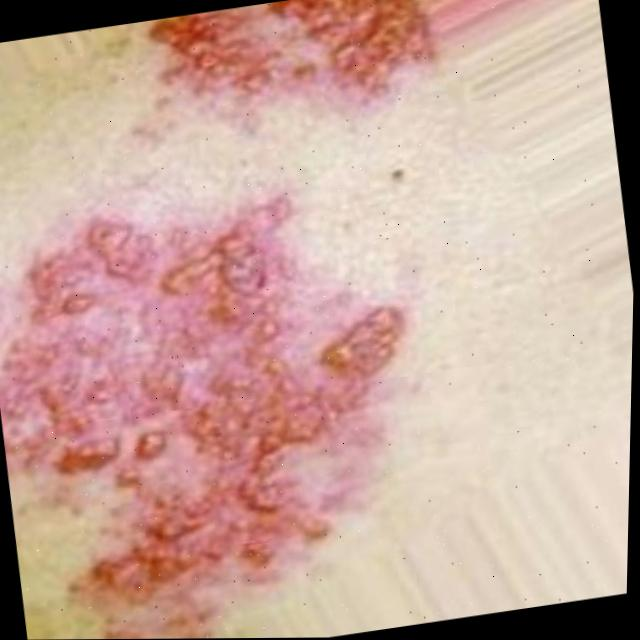Shingles: (0, 187, 447, 639), (145, 0, 428, 113)
